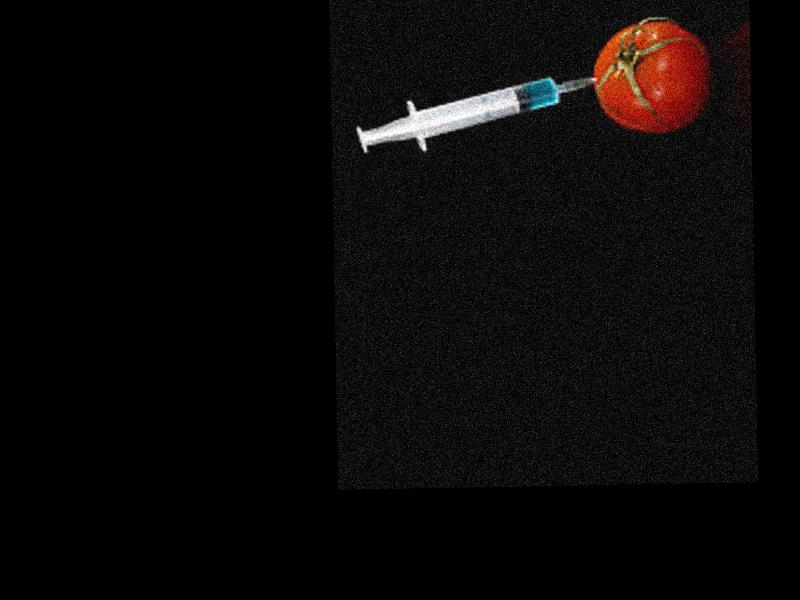Tomato: (591, 16, 708, 135)
